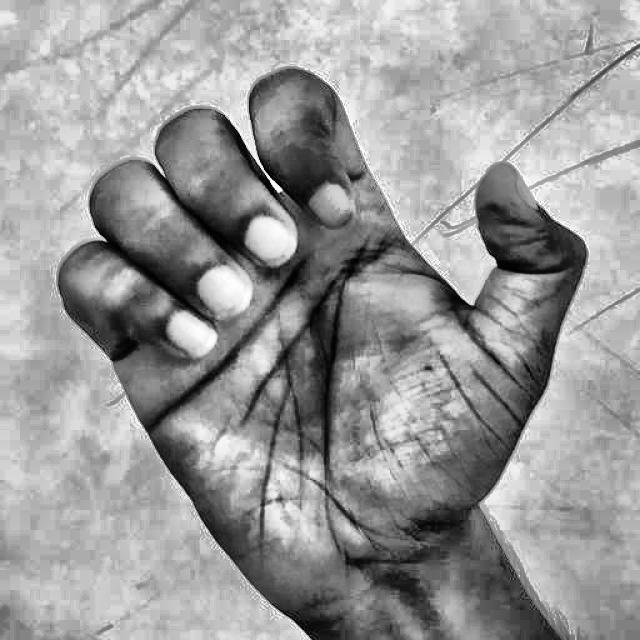Dho: (27, 52, 600, 610)
